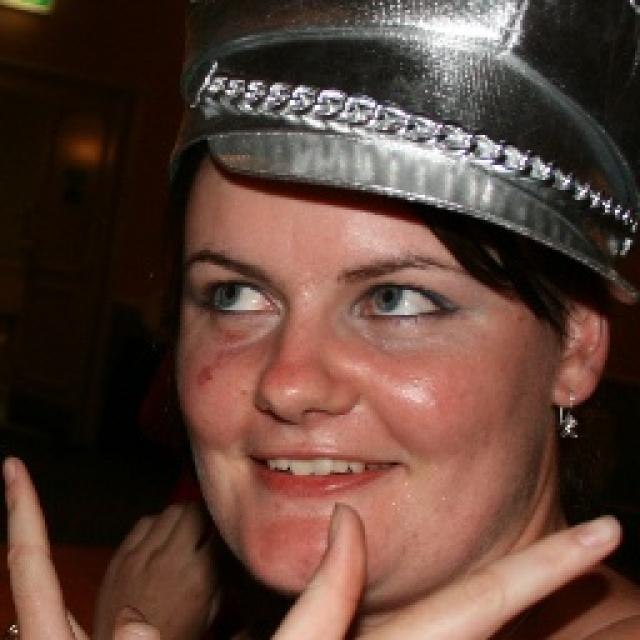earlobe: (552, 357, 596, 411)
eye: (354, 283, 459, 327), (201, 276, 283, 329)
nose: (257, 407, 353, 443)
wholeear: (552, 266, 607, 410)
